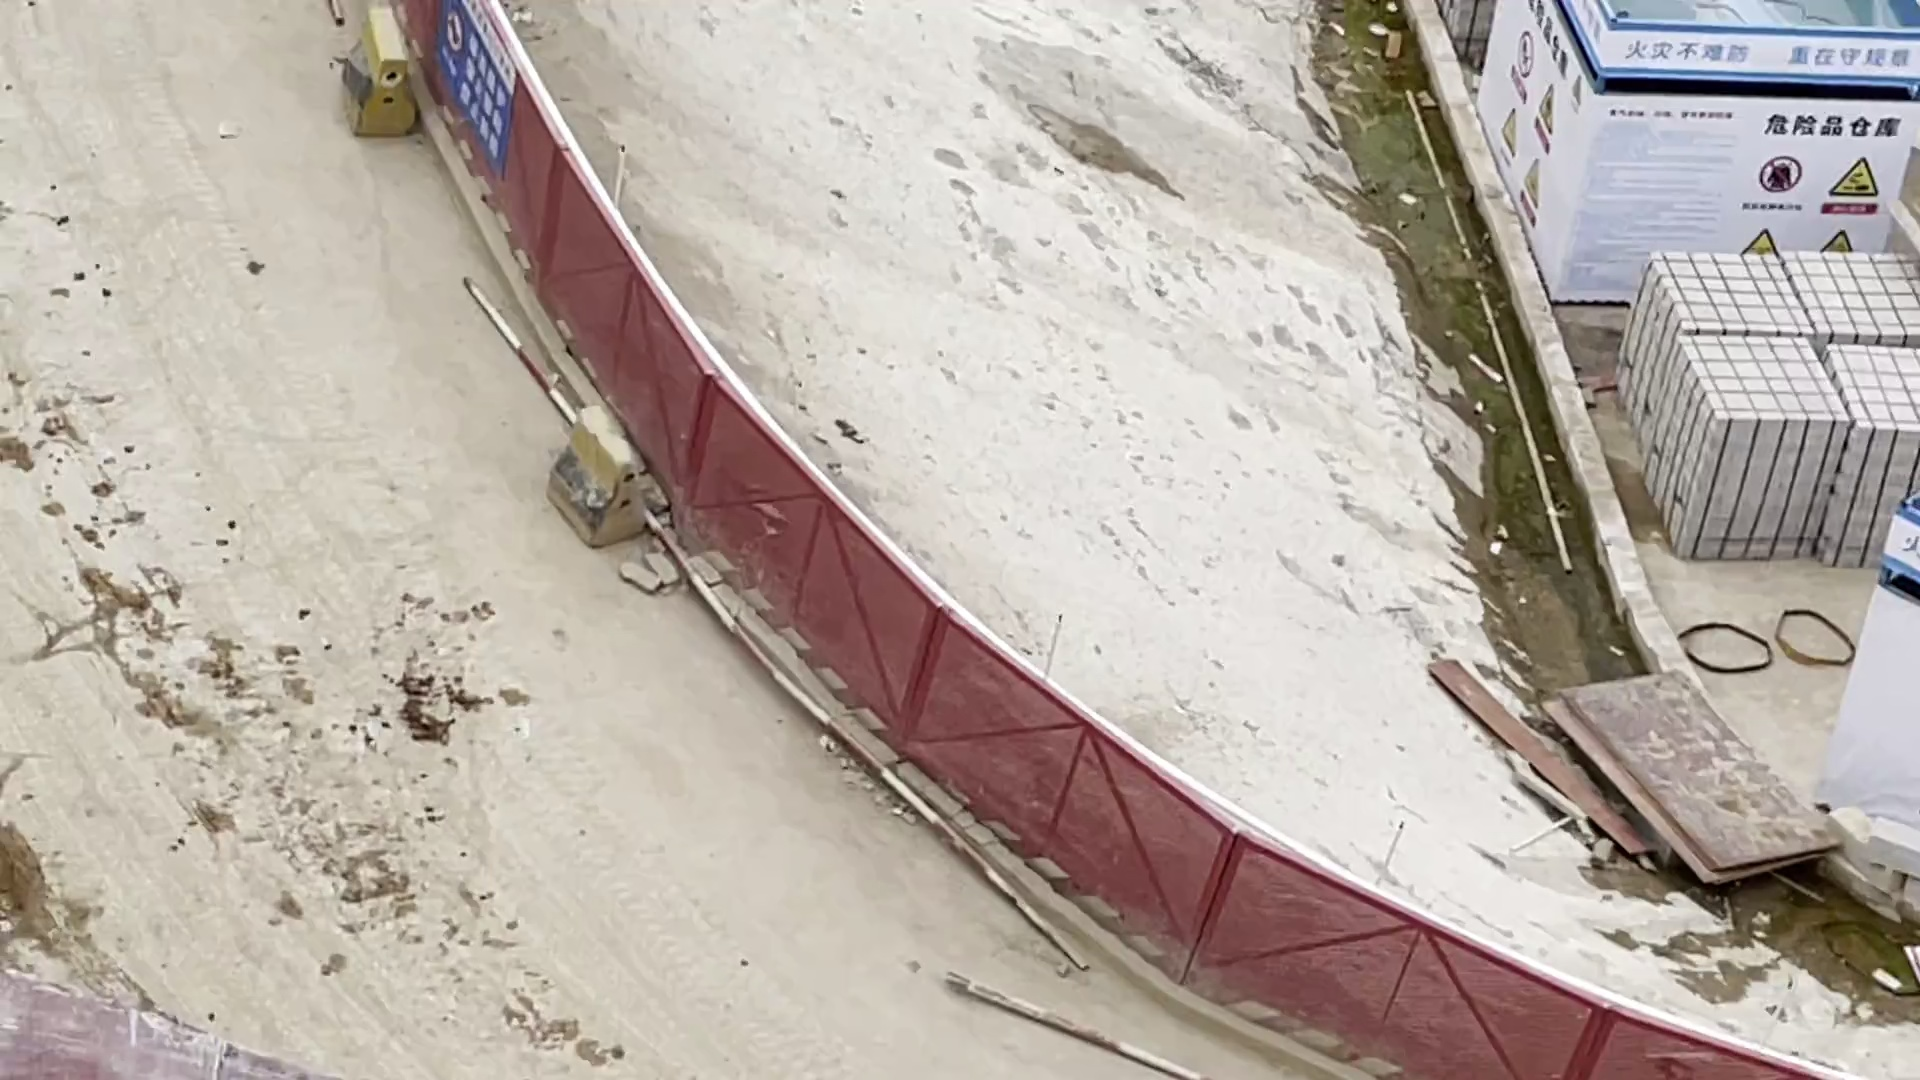board: (1535, 662, 1869, 899)
brick: (1606, 225, 1920, 583), (1792, 791, 1920, 924), (1429, 1, 1495, 76)
fence: (665, 353, 1241, 1021), (1200, 833, 1853, 1080), (404, 4, 688, 508)
slogan: (1466, 1, 1920, 331), (407, 1, 554, 165), (1849, 484, 1920, 589)
